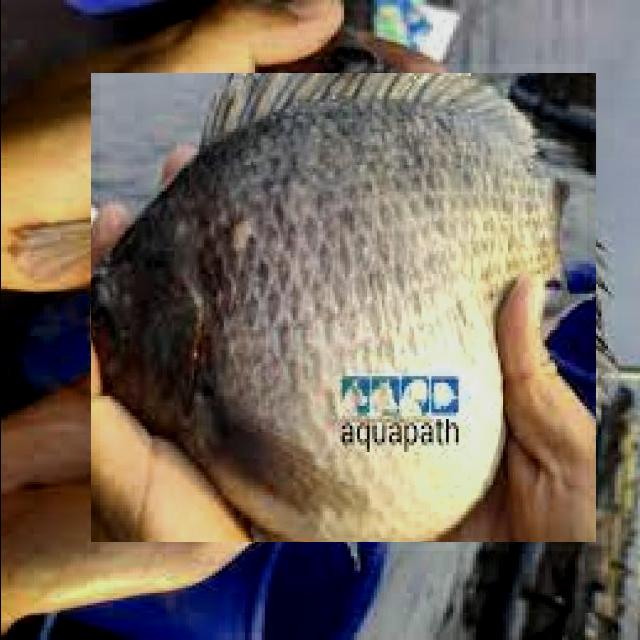EUS Disease: (99, 64, 586, 551)
